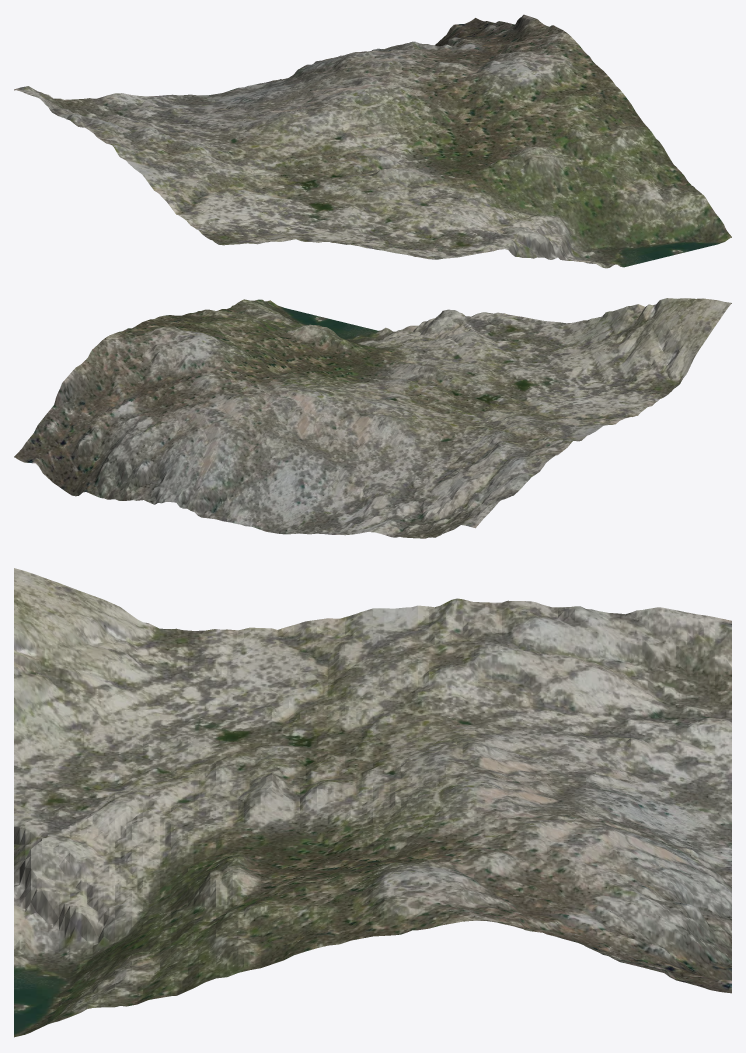
The picture shows the model from 3 angles, top to bottom: view 1: azimuth 30°, elevation 25°; view 2: azimuth 150°, elevation 25°; view 3: azimuth 270°, elevation 25°; orthographic projection. The views are drawn at different scales.
Size of the model in its own units: 1000 by 239 by 963.
Materials: 1 (1 with a texture image).
